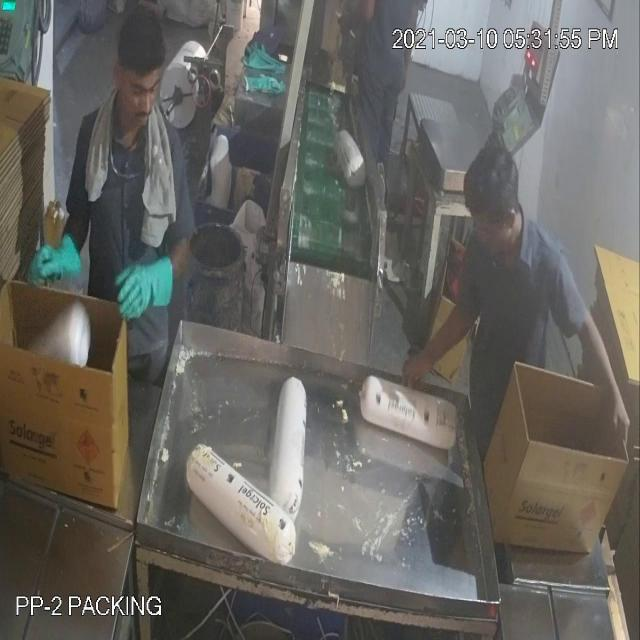No_Gloves: (54, 74, 600, 370)
